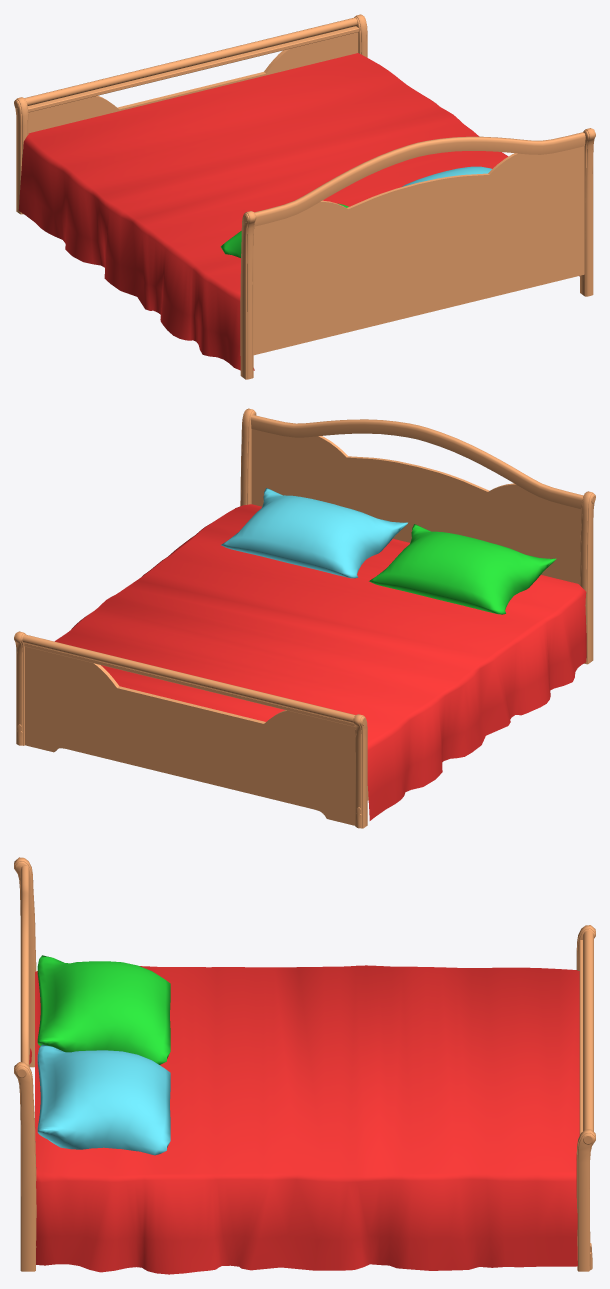
File: bed_3.FBX
The picture shows the model from 3 angles, top to bottom: view 1: azimuth 30°, elevation 25°; view 2: azimuth 150°, elevation 25°; view 3: azimuth 270°, elevation 25°; orthographic projection. The views are drawn at different scales.
Parts seen in each view (by area): view 1: base, pillow2; view 2: base, pillow2, pillow1; view 3: base, pillow2, pillow1.
Part boxes in pixels (<box>): base: <box>14,14,595,379</box>; pillow2: <box>402,166,491,186</box>; base: <box>14,408,595,828</box>; pillow2: <box>221,488,407,578</box>; pillow1: <box>369,524,556,614</box>; base: <box>14,857,595,1274</box>; pillow2: <box>37,1044,170,1155</box>; pillow1: <box>37,955,170,1064</box>.
Bounding box in the file's own units: 2.02 × 0.9997 × 2.21.
